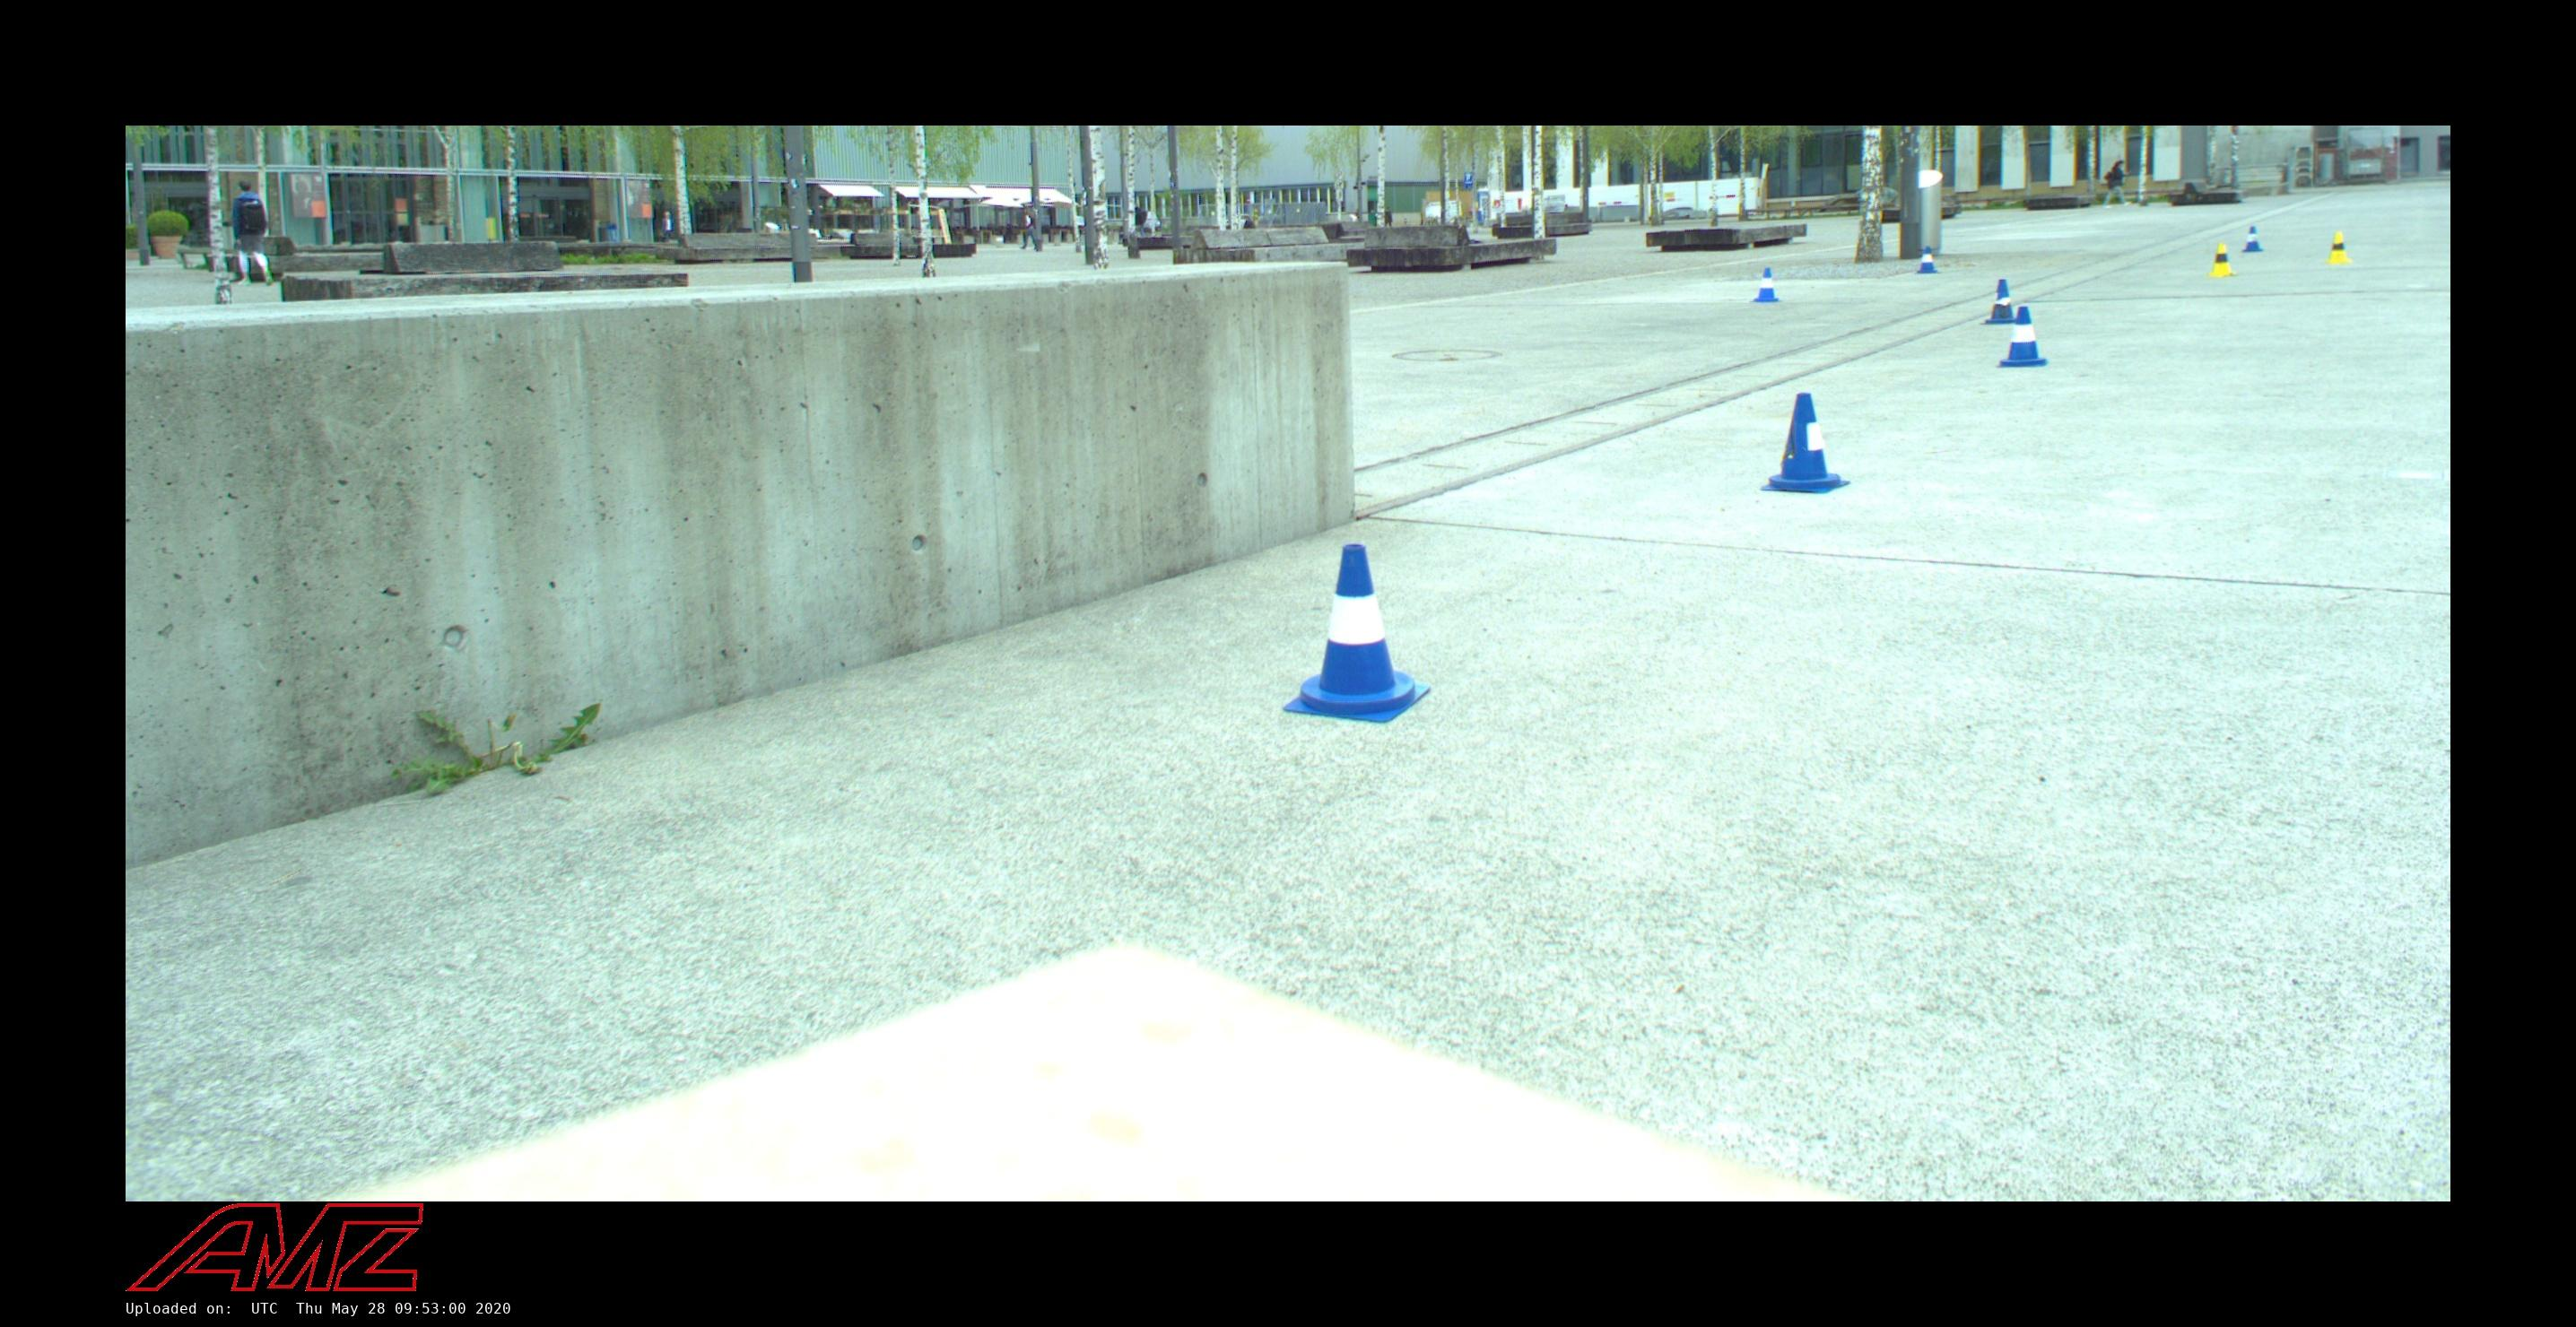blue_cone: (1285, 545, 1428, 719), (1759, 391, 1848, 494), (1995, 306, 2048, 369), (1985, 279, 2021, 325), (1748, 267, 1784, 305), (1916, 245, 1938, 274), (2241, 225, 2263, 252)
yellow_cone: (2205, 244, 2237, 278), (2324, 232, 2354, 264)
